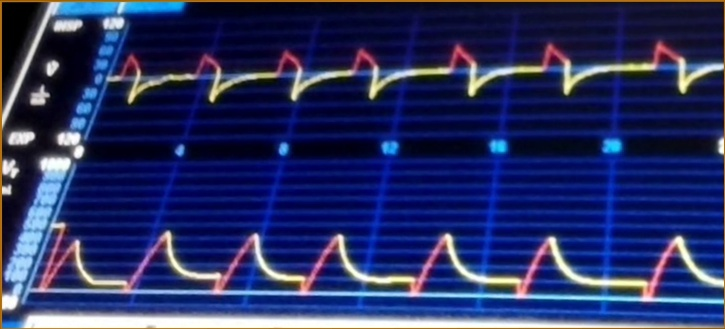Flow: (118, 28, 722, 129)
Leakage Volume: (68, 205, 723, 311)
